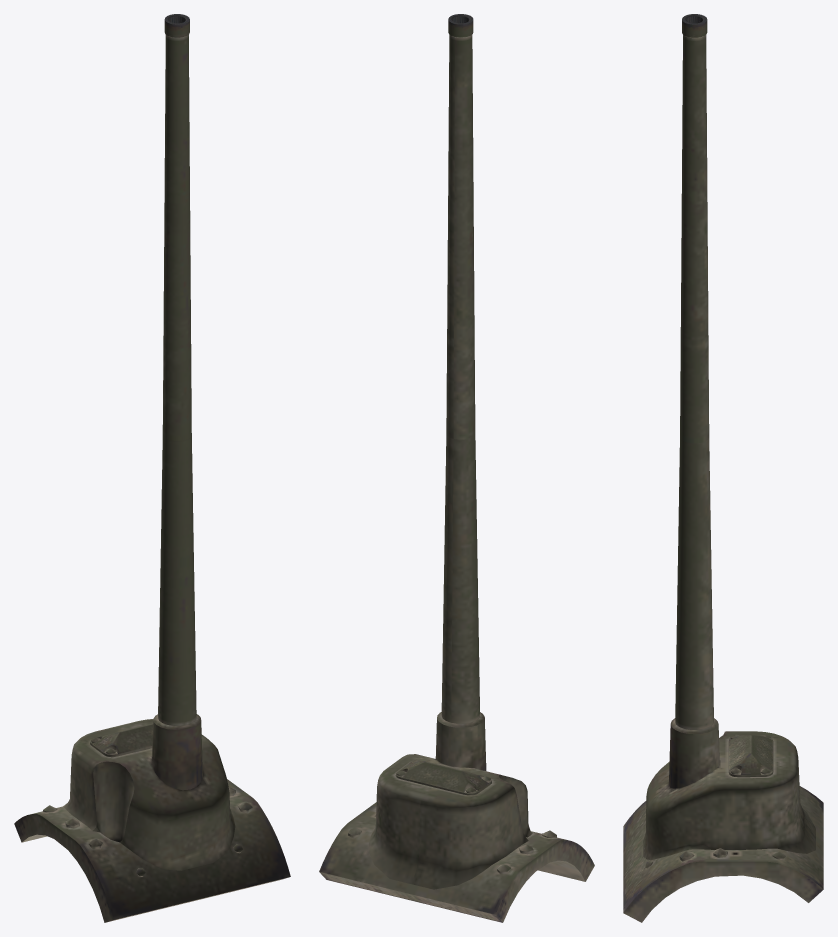
File: Gun_02.glb
3 views of the same model, side by side, from view 1: azimuth 30°, elevation 25°; view 2: azimuth 150°, elevation 25°; view 3: azimuth 270°, elevation 25° (orthographic).
Visible parts, largest first — view 1: set_0_group_0; view 2: set_0_group_0; view 3: set_0_group_0.
Part boxes in pixels (x1=…): set_0_group_0: x1=14, y1=14, x2=290, y2=922; set_0_group_0: x1=319, y1=14, x2=594, y2=922; set_0_group_0: x1=623, y1=14, x2=823, y2=922.
Bounding box in the file's own units: 0.6619 × 3.07 × 0.6453.
Materials: 1 (1 with a texture image).
